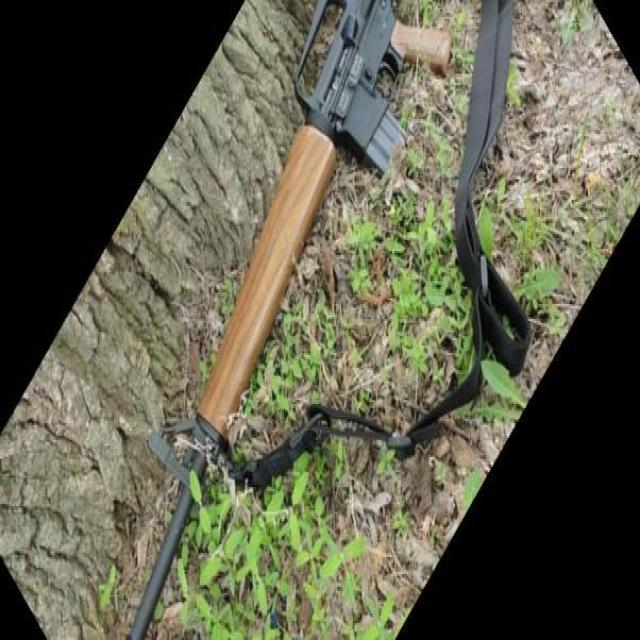weapon: (129, 0, 453, 640)
